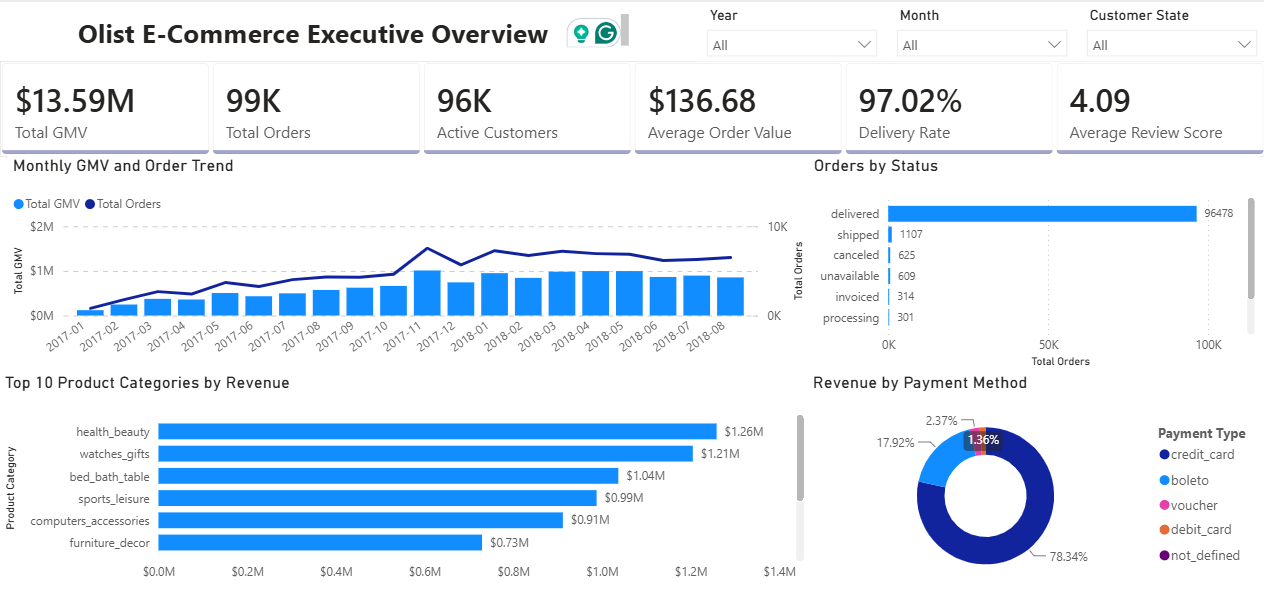

What the dashboard file says about the page in this screenshot:
{"tool":"powerbi","page":{"name":"Executive Overview","canvas":[1280,720],"ordinal":0},"visuals":[{"type":"image","box":[15.9,5.9,76.5,85.1],"z":0,"group":"g1"},{"type":"shape","box":[15.3,96.8,77.7,603.7],"z":0},{"type":"image","box":[19.9,11.6,68.4,71.9],"z":1000,"group":"g1"},{"type":"shape","box":[1035.5,252.2,230.5,219.1],"z":1000},{"type":"shape","box":[941.2,481.4,324.8,221.6],"z":2000},{"type":"shape","box":[519.6,481.4,415.2,221.6],"z":3000},{"type":"shape","box":[107.6,481.8,408.4,218.9],"z":4000},{"type":"shape","box":[687.8,250.9,342.6,219.1],"z":5000},{"type":"shape","box":[105.2,250.7,577.2,218.9],"z":6000},{"type":"shape","box":[638.3,7.3,626.1,77],"z":7000},{"type":"textbox","box":[63.6,3.7,368.1,90.5],"z":8000},{"type":"slicer","fields":{"Values":["dim_date.year"]},"box":[640.8,8.6,204.2,77],"z":9000},{"type":"slicer","fields":{"Values":["dim_date.month_name"]},"box":[851.2,8.6,204,77],"z":10000},{"type":"slicer","fields":{"Values":["dim_customer.Customer State"]},"box":[1061.4,8.6,204.2,77],"z":11000},{"type":"lineClusteredColumnComboChart","title":"Monthly GMV and Order Trend","fields":{"Category":["dim_date.year_month"],"Y":["_Measures.Total GMV"],"Y2":["_Measures.Total Orders"]},"box":[107.6,251.9,572.3,217.7],"z":12000},{"type":"clusteredBarChart","title":"Orders by Status","fields":{"Category":["fact_order.order_status"],"Y":["_Measures.Total Orders"]},"box":[686.5,252.2,343.9,219.1],"z":13000},{"type":"clusteredBarChart","title":"Top 10 Product Categories by Revenue","fields":{"Category":["dim_product.Product Category"],"Y":["_Measures.Item GMV"]},"box":[520.9,482.7,413.9,221.6],"z":14000},{"type":"donutChart","title":"Revenue by Payment Method","fields":{"Category":["fact_payment.Payment Type"],"Y":["_Measures.Payment Fact Value"]},"box":[941.2,481.4,324.8,221.6],"z":15000},{"type":"clusteredBarChart","title":"Top 6 States by Revenue","fields":{"Category":["dim_customer.Customer State"],"Y":["_Measures.Total GMV"]},"box":[107,481.4,408.8,221.6],"z":16000},{"type":"cardVisual","fields":{"Data":["_Measures.Total GMV"]},"box":[105.2,150.4,189.5,90.5],"z":17000,"group":"g2"},{"type":"gauge","title":"Delivery Performance","fields":{"Y":["_Measures.Delivery Rate"]},"box":[1035.7,250.7,229.9,96.6],"z":17000},{"type":"pageNavigator","box":[105.7,96.8,1160.3,40.8],"z":18000},{"type":"cardVisual","fields":{"Data":["_Measures.Total Orders"]},"box":[299.6,150.4,189,90],"z":18000,"group":"g2"},{"type":"group","id":"g1","title":"Group 1","box":[15.9,5.9,76.5,85.1],"z":19000},{"type":"cardVisual","fields":{"Data":["_Measures.Active Customers"]},"box":[493.4,150.4,189,90.5],"z":19000,"group":"g2"},{"type":"group","id":"g2","title":"Group 2","box":[105.2,150.4,1158.7,90.5],"z":20000},{"type":"cardVisual","fields":{"Data":["_Measures.Average Order Value"]},"box":[687.2,150.4,189,90],"z":20000,"group":"g2"},{"type":"actionButton","box":[29.3,128.6,50,50],"z":21000},{"type":"cardVisual","fields":{"Data":["_Measures.Delivery Rate"]},"box":[881.1,150.4,189,90],"z":21000,"group":"g2"},{"type":"cardVisual","fields":{"Data":["_Measures.Average Review Score"]},"box":[1074.9,150.4,189,90],"z":22000,"group":"g2"},{"type":"actionButton","box":[29.3,196.8,50,50],"z":22000},{"type":"actionButton","box":[370.5,101.5,30.6,30.6],"z":23000},{"type":"actionButton","box":[134.5,101.5,30.6,30.6],"z":24000},{"type":"actionButton","box":[28.9,265,50,50],"z":25000},{"type":"actionButton","box":[583.3,102.7,30.6,29.3],"z":26000},{"type":"actionButton","box":[28.9,333.2,50,50],"z":27000},{"type":"actionButton","box":[809.5,102.7,29.3,29.3],"z":28000},{"type":"actionButton","box":[28.9,401.3,50,50],"z":29000},{"type":"actionButton","box":[1041.9,102.7,30.6,30.6],"z":30000},{"type":"shape","box":[1046.6,358,102.3,107.5],"z":33000},{"type":"cardVisual","fields":{"Data":["_Measures.Average Delivery Days"]},"box":[1042.6,397.4,107.5,65.6],"z":34000},{"type":"actionButton","box":[1074.1,364.6,44.6,36.7],"z":35000},{"type":"shape","box":[1156.7,358,102.3,107.5],"z":36000},{"type":"cardVisual","fields":{"Data":["_Measures.Cancellation Rate"]},"box":[1154.1,398.7,107.5,65.6],"z":37000},{"type":"actionButton","box":[1185.6,364.6,44.6,36.7],"z":38000},{"type":"textbox","box":[1096.9,332.6,97.8,25.7],"z":39000},{"type":"image","box":[193.2,203,24.5,24.5],"z":40000},{"type":"image","box":[404.8,203,24.5,24.5],"z":41000},{"type":"image","box":[628.5,203,25,25],"z":42000},{"type":"image","box":[1230.2,201.8,25,25],"z":43000},{"type":"image","box":[992.9,203,24.5,24.5],"z":44000},{"type":"image","box":[847.4,201.8,24.5,24.5],"z":45000}]}

Visuals, with their boxes on the page's 1280x720 design canvas (x1, y1, x2, y2). These are canvas units, not pixel positions in the 1264x608 screenshot, which may show the page scaled, cropped or inside an application window:
image: {"left": 16, "top": 6, "right": 92, "bottom": 91}
shape: {"left": 15, "top": 97, "right": 93, "bottom": 700}
image: {"left": 20, "top": 12, "right": 88, "bottom": 84}
shape: {"left": 1036, "top": 252, "right": 1266, "bottom": 471}
shape: {"left": 941, "top": 481, "right": 1266, "bottom": 703}
shape: {"left": 520, "top": 481, "right": 935, "bottom": 703}
shape: {"left": 108, "top": 482, "right": 516, "bottom": 701}
shape: {"left": 688, "top": 251, "right": 1030, "bottom": 470}
shape: {"left": 105, "top": 251, "right": 682, "bottom": 470}
shape: {"left": 638, "top": 7, "right": 1264, "bottom": 84}
textbox: {"left": 64, "top": 4, "right": 432, "bottom": 94}
slicer - dim_date.year: {"left": 641, "top": 9, "right": 845, "bottom": 86}
slicer - dim_date.month_name: {"left": 851, "top": 9, "right": 1055, "bottom": 86}
slicer - dim_customer.Customer State: {"left": 1061, "top": 9, "right": 1266, "bottom": 86}
"Monthly GMV and Order Trend" lineClusteredColumnComboChart: {"left": 108, "top": 252, "right": 680, "bottom": 470}
"Orders by Status" clusteredBarChart: {"left": 686, "top": 252, "right": 1030, "bottom": 471}
"Top 10 Product Categories by Revenue" clusteredBarChart: {"left": 521, "top": 483, "right": 935, "bottom": 704}
"Revenue by Payment Method" donutChart: {"left": 941, "top": 481, "right": 1266, "bottom": 703}
"Top 6 States by Revenue" clusteredBarChart: {"left": 107, "top": 481, "right": 516, "bottom": 703}
cardVisual - _Measures.Total GMV: {"left": 105, "top": 150, "right": 295, "bottom": 241}
"Delivery Performance" gauge: {"left": 1036, "top": 251, "right": 1266, "bottom": 347}
pageNavigator: {"left": 106, "top": 97, "right": 1266, "bottom": 138}
cardVisual - _Measures.Total Orders: {"left": 300, "top": 150, "right": 489, "bottom": 240}
"Group 1" group: {"left": 16, "top": 6, "right": 92, "bottom": 91}
cardVisual - _Measures.Active Customers: {"left": 493, "top": 150, "right": 682, "bottom": 241}
"Group 2" group: {"left": 105, "top": 150, "right": 1264, "bottom": 241}
cardVisual - _Measures.Average Order Value: {"left": 687, "top": 150, "right": 876, "bottom": 240}
actionButton: {"left": 29, "top": 129, "right": 79, "bottom": 179}
cardVisual - _Measures.Delivery Rate: {"left": 881, "top": 150, "right": 1070, "bottom": 240}
cardVisual - _Measures.Average Review Score: {"left": 1075, "top": 150, "right": 1264, "bottom": 240}
actionButton: {"left": 29, "top": 197, "right": 79, "bottom": 247}
actionButton: {"left": 370, "top": 102, "right": 401, "bottom": 132}
actionButton: {"left": 134, "top": 102, "right": 165, "bottom": 132}
actionButton: {"left": 29, "top": 265, "right": 79, "bottom": 315}
actionButton: {"left": 583, "top": 103, "right": 614, "bottom": 132}
actionButton: {"left": 29, "top": 333, "right": 79, "bottom": 383}
actionButton: {"left": 810, "top": 103, "right": 839, "bottom": 132}
actionButton: {"left": 29, "top": 401, "right": 79, "bottom": 451}
actionButton: {"left": 1042, "top": 103, "right": 1072, "bottom": 133}
shape: {"left": 1047, "top": 358, "right": 1149, "bottom": 466}
cardVisual - _Measures.Average Delivery Days: {"left": 1043, "top": 397, "right": 1150, "bottom": 463}
actionButton: {"left": 1074, "top": 365, "right": 1119, "bottom": 401}
shape: {"left": 1157, "top": 358, "right": 1259, "bottom": 466}
cardVisual - _Measures.Cancellation Rate: {"left": 1154, "top": 399, "right": 1262, "bottom": 464}
actionButton: {"left": 1186, "top": 365, "right": 1230, "bottom": 401}
textbox: {"left": 1097, "top": 333, "right": 1195, "bottom": 358}
image: {"left": 193, "top": 203, "right": 218, "bottom": 228}
image: {"left": 405, "top": 203, "right": 429, "bottom": 228}
image: {"left": 628, "top": 203, "right": 654, "bottom": 228}
image: {"left": 1230, "top": 202, "right": 1255, "bottom": 227}
image: {"left": 993, "top": 203, "right": 1017, "bottom": 228}
image: {"left": 847, "top": 202, "right": 872, "bottom": 226}
